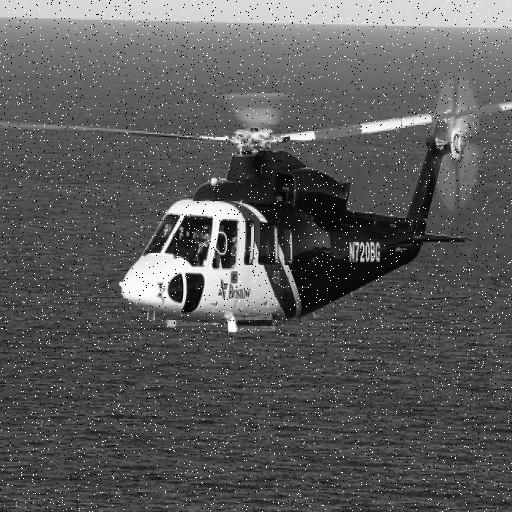helicopter: (1, 84, 512, 337)
